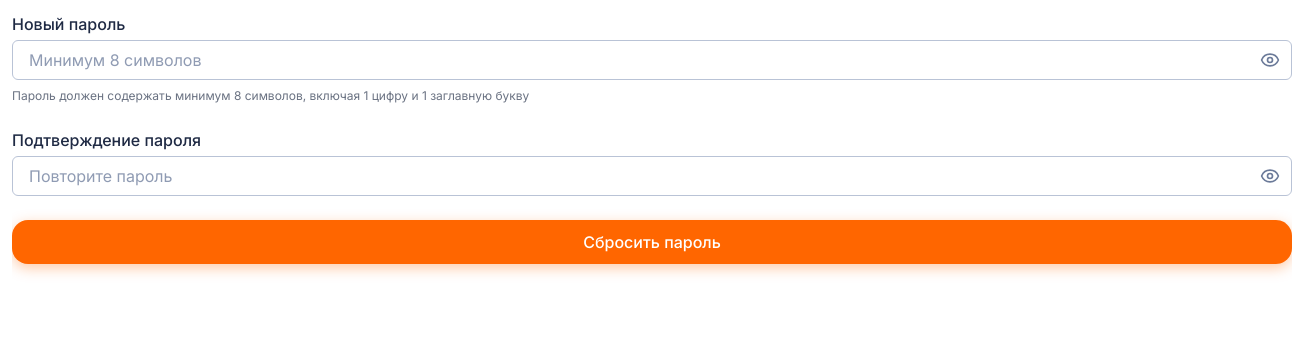
Test case: PasswordResetConfirmForm › Client-side Validation › should show error for password without uppercase
Type "nouppercase123" into the password field labelled "Новый пароль" at {"x": 652, "y": 60}, box x1=12 y1=40 x2=1292 y2=80
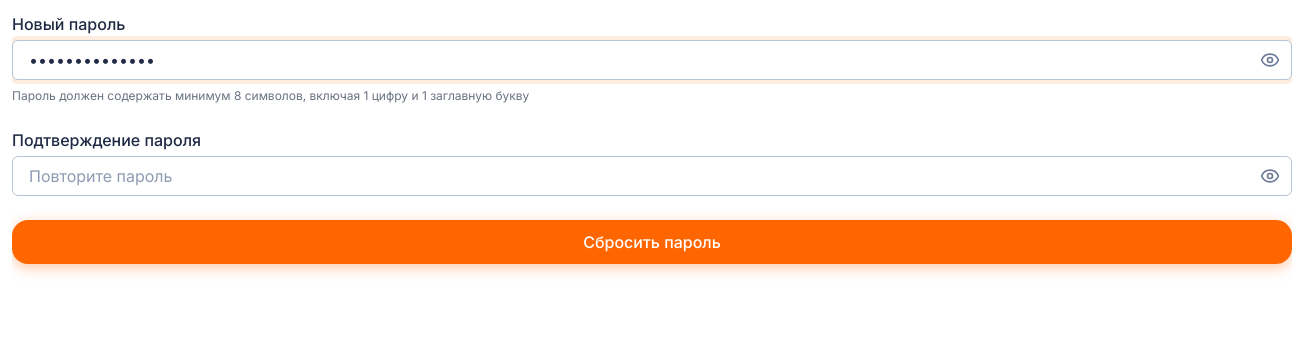
Type "nouppercase123" into the password field labelled "Подтверждение пароля" at {"x": 652, "y": 176}, box x1=12 y1=156 x2=1292 y2=196
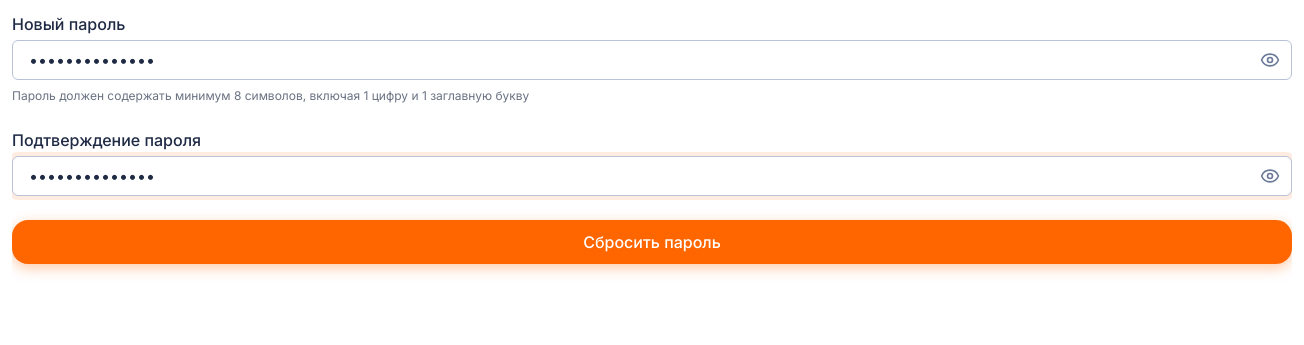
Click the button "Сбросить пароль" at {"x": 652, "y": 242}, box x1=12 y1=220 x2=1292 y2=264
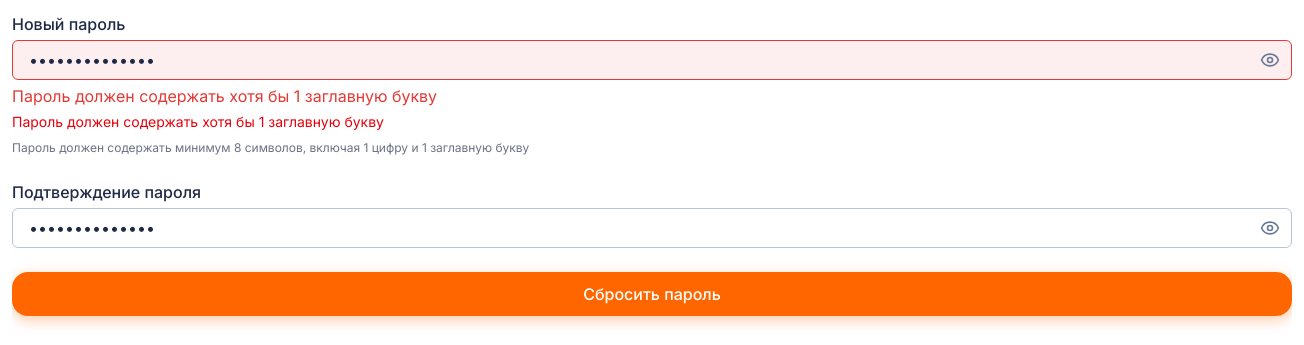
Expected: the message "Пароль должен содержать хотя бы 1 заглавную букву" is shown, x1=12 y1=113 x2=384 y2=130
